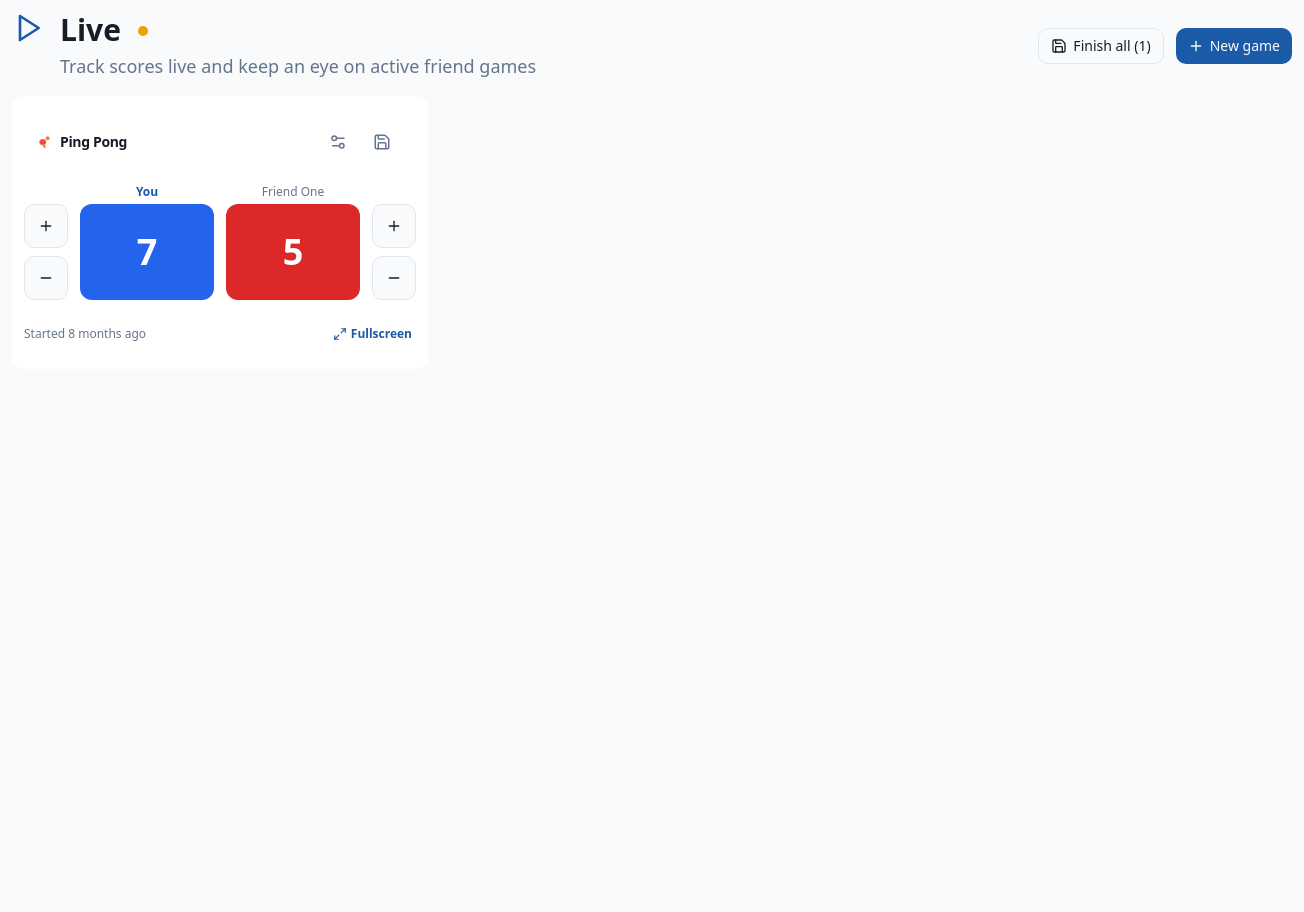
Test: LiveScoreTracker perspective labels › undoes exactly the last tap from the snackbar, even from a stale render
Seeded game: You 7 - 5 Friend One.
What coordinates should you click on to do the following:
click the button named "Score for You: 7"
I would click on:
 (147, 252)
Its box is [80, 204, 214, 300].
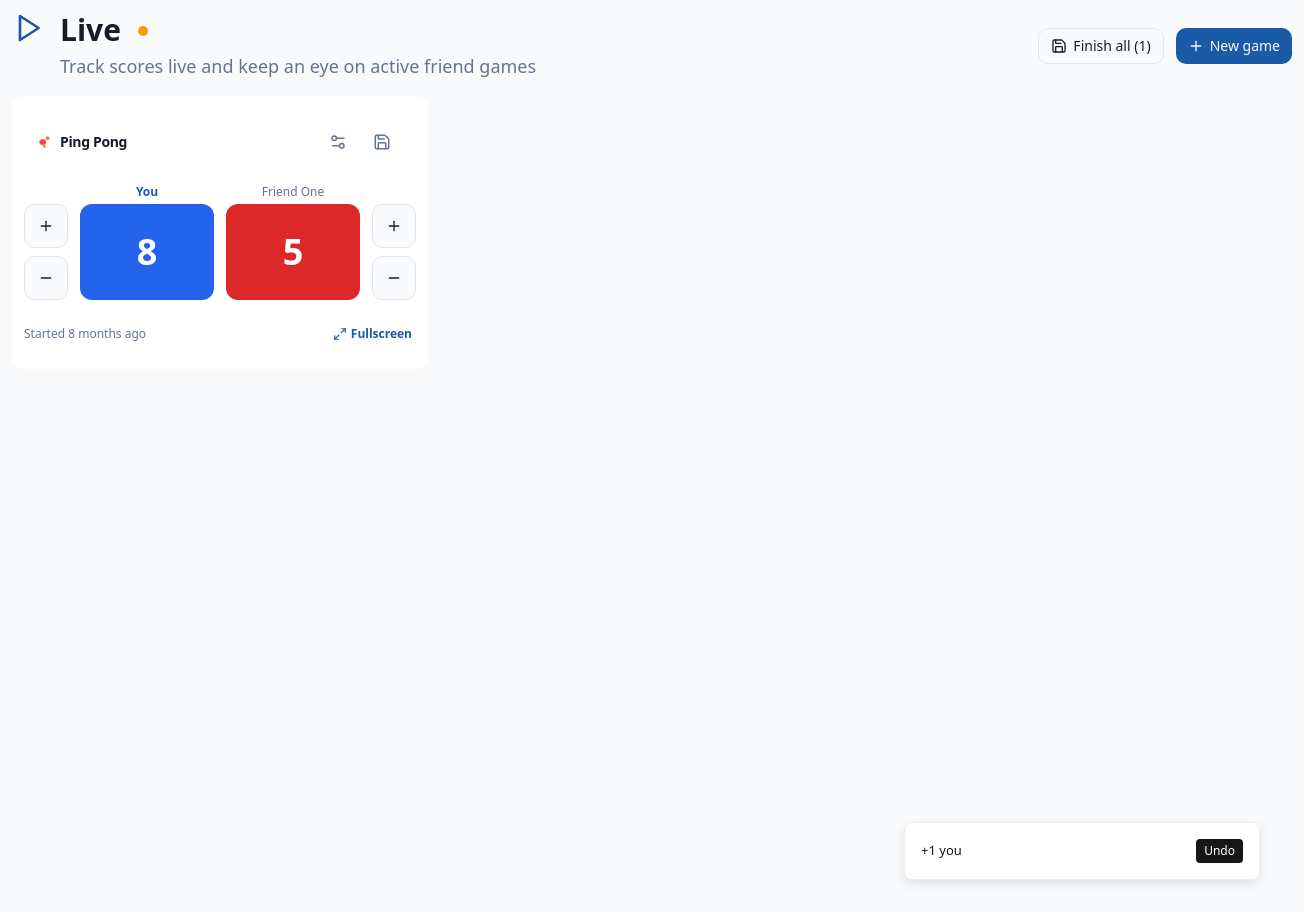
Expected: the button named "Score for You: 8" is shown, [80, 204, 214, 300]
What coordinates should you click on to do the following:
click the button "Undo"
I would click on:
 (1220, 851)
Its box is [1196, 839, 1243, 863].
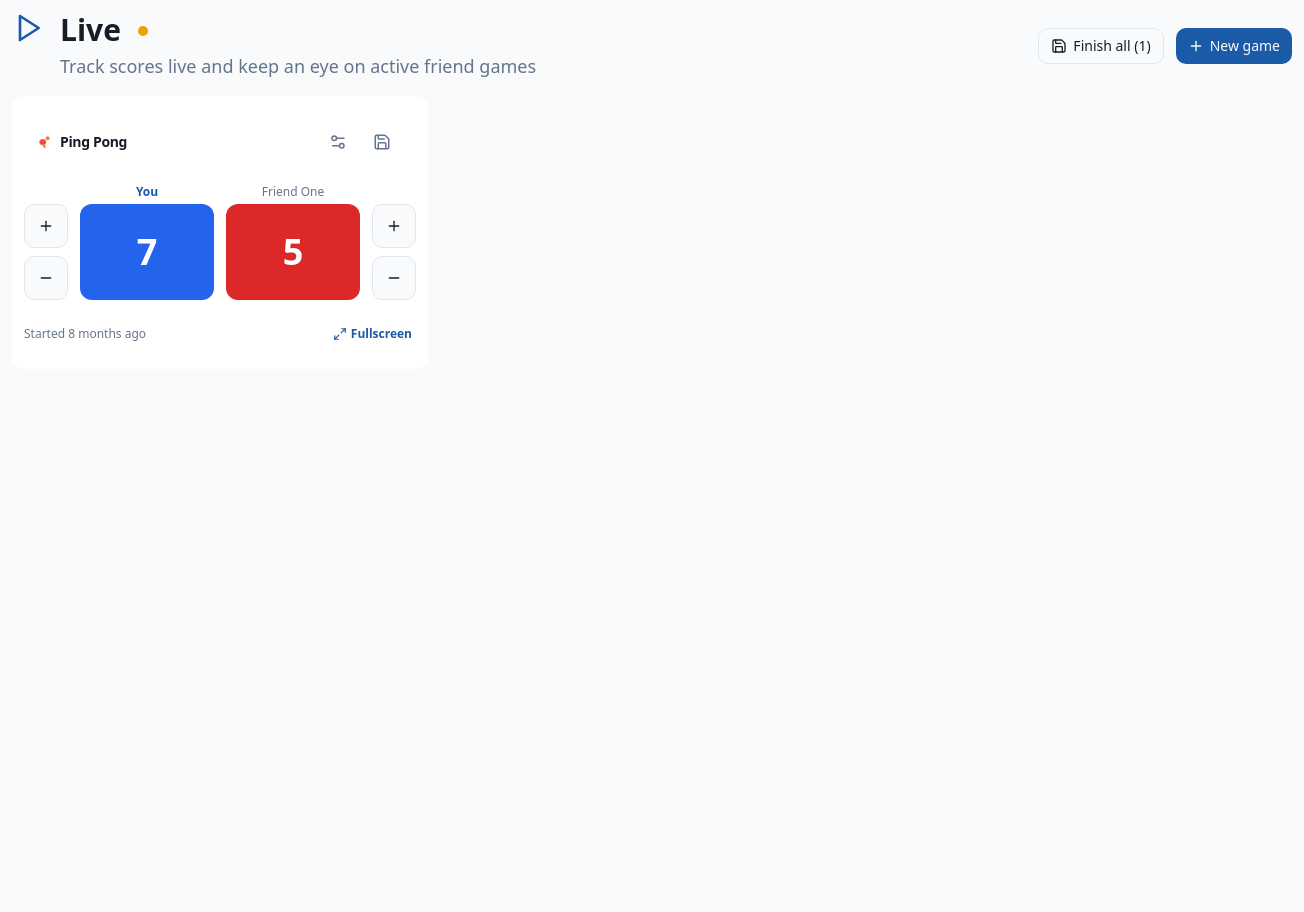
Expected: the button named "Score for You: 7" is shown, [80, 204, 214, 300]
